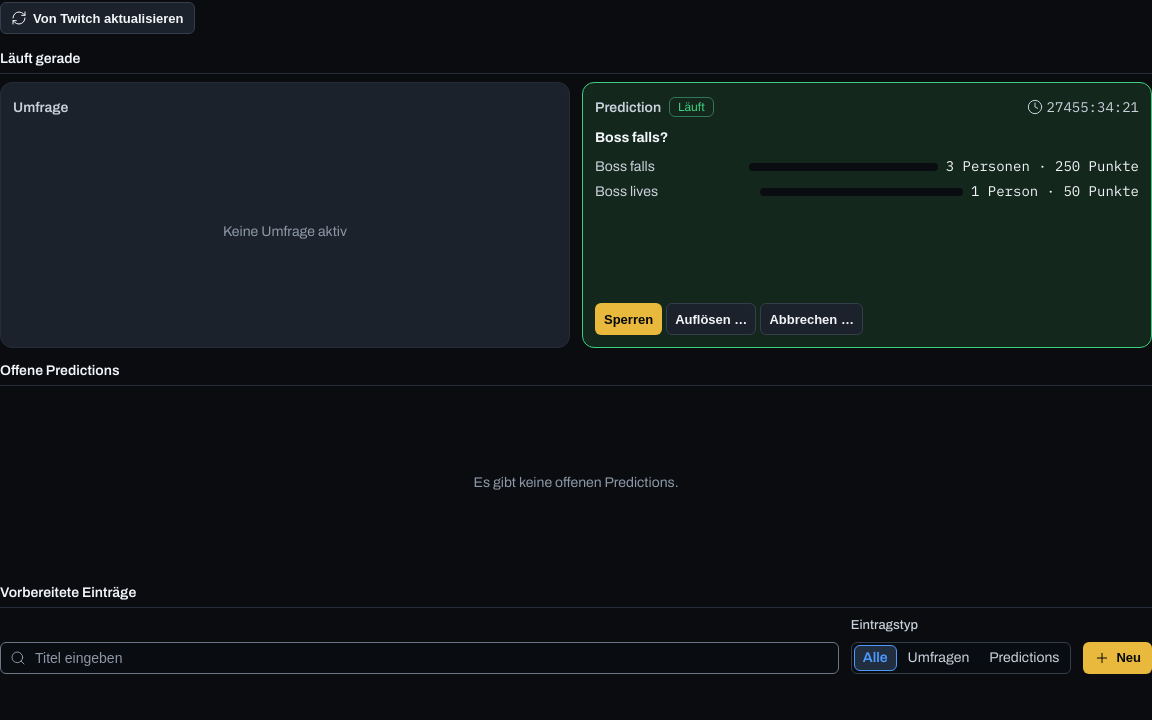
polls panel › names the selected outcome in the resolve confirmation button
Click the button "Auflösen …": {"x": 711, "y": 319} x1=666 y1=303 x2=756 y2=335
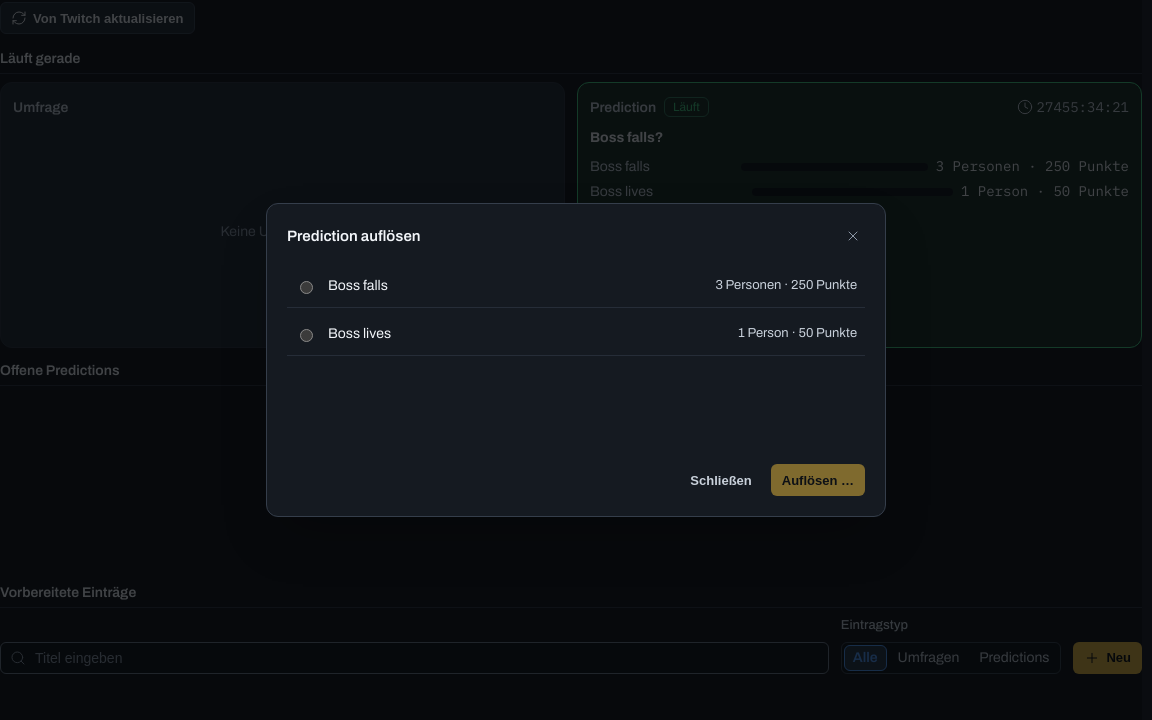
Click the radio button labelled "Boss falls 3 Personen · 250 Punkte": {"x": 306, "y": 287} x1=300 y1=280 x2=313 y2=294
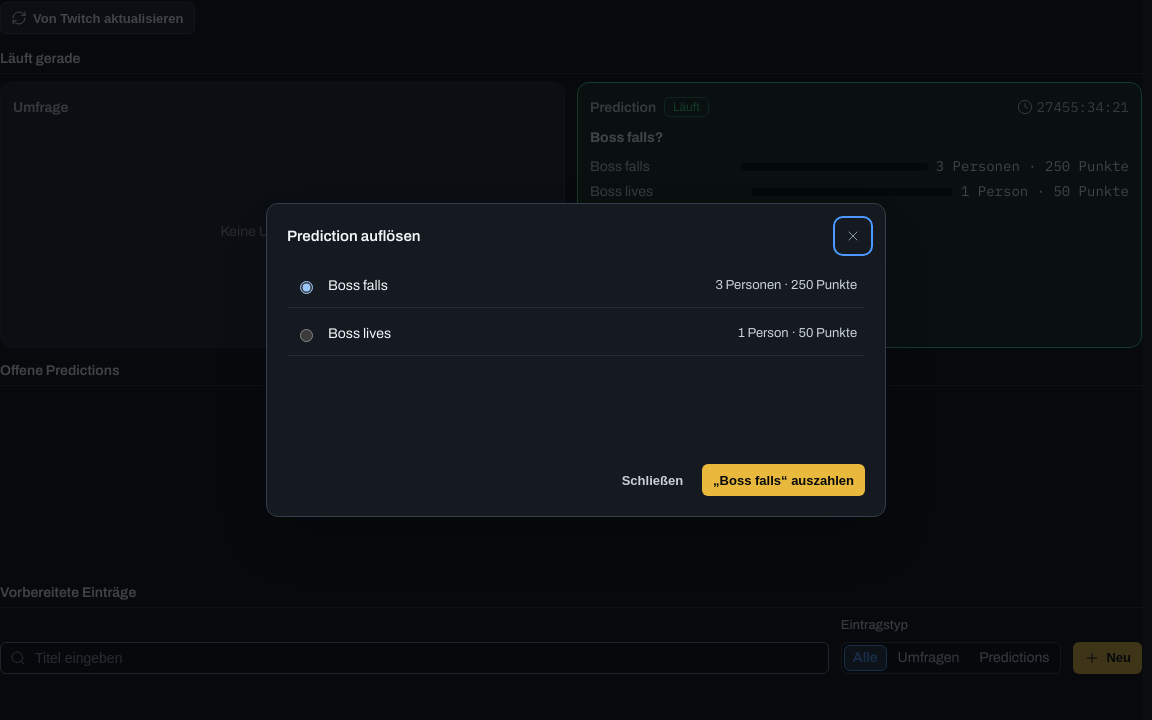
Now the button "„Boss falls“ auszahlen" is shown, box x1=702 y1=464 x2=865 y2=496
